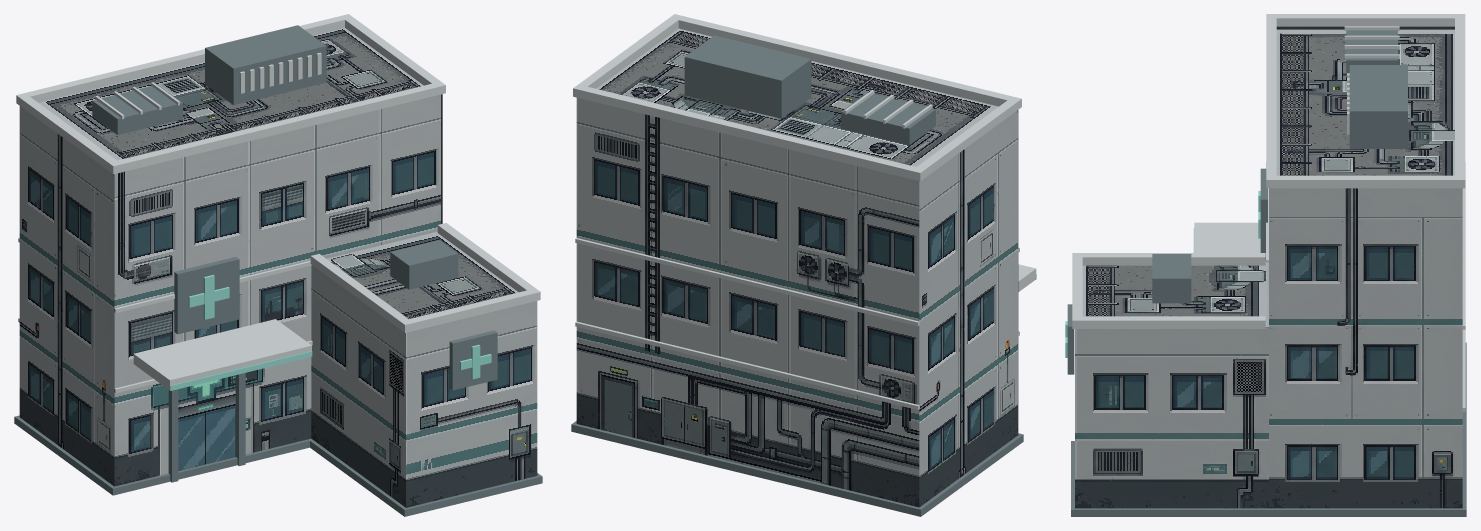
File: city_hospital.glb
3 views of the same model, side by side, from view 1: azimuth 30°, elevation 25°; view 2: azimuth 150°, elevation 25°; view 3: azimuth 270°, elevation 25° (orthographic). The views are drawn at different scales.
Visible parts, largest first — view 1: Main_Entrance, Main_West, Emergency_Front, Emergency_InnerCorner, Main_Roof, Emergency_Roof, EntryCanopy, RoofMechanicalHousing, MainRoofFront, MedicalPlaque, MainRoofBack, Main_Plinto (+13 smaller); view 2: Main_Rear, Main_West, Main_Roof, RoofMechanicalHousing, MainRoofBack, MainRoofFront, Main_Plinto, RoofSkylight, MainBackBelt_1.8, MainBackBelt_3.2, MainRoofLeft, MainRoofRight; view 3: Main_East, Emergency_East, Main_Roof, Emergency_Roof, RoofMechanicalHousing, MainRoofRight, Main_Plinto, WingRoofRight, MainRoofLeft, Wing_Plinto, EntryCanopy, EmergencyRoofService (+8 smaller).
Boxes of the visible parts, x1=… form: Main_Entrance: x1=114, y1=94, x2=442, y2=486; Main_West: x1=19, y1=106, x2=114, y2=485; Emergency_Front: x1=406, y1=301, x2=537, y2=507; Emergency_InnerCorner: x1=311, y1=265, x2=405, y2=507; Main_Roof: x1=38, y1=28, x2=423, y2=160; Emergency_Roof: x1=326, y1=231, x2=518, y2=318; EntryCanopy: x1=133, y1=319, x2=311, y2=390; RoofMechanicalHousing: x1=205, y1=25, x2=326, y2=105; MainRoofFront: x1=108, y1=81, x2=445, y2=174; MedicalPlaque: x1=174, y1=257, x2=239, y2=334; MainRoofBack: x1=16, y1=14, x2=352, y2=106; Main_Plinto: x1=14, y1=415, x2=312, y2=495; Main_Rear: x1=576, y1=97, x2=919, y2=507; Main_West: x1=919, y1=110, x2=1018, y2=507; Main_Roof: x1=596, y1=28, x2=998, y2=166; RoofMechanicalHousing: x1=684, y1=35, x2=811, y2=118; MainRoofBack: x1=573, y1=84, x2=925, y2=181; MainRoofFront: x1=669, y1=14, x2=1021, y2=110; Main_Plinto: x1=571, y1=421, x2=1023, y2=516; RoofSkylight: x1=841, y1=92, x2=935, y2=145; MainBackBelt_1.8: x1=575, y1=321, x2=919, y2=409; MainBackBelt_3.2: x1=575, y1=238, x2=919, y2=326; MainRoofLeft: x1=915, y1=99, x2=1018, y2=178; MainRoofRight: x1=577, y1=18, x2=678, y2=88; Main_East: x1=1269, y1=188, x2=1462, y2=508; Emergency_East: x1=1075, y1=328, x2=1268, y2=508; Main_Roof: x1=1276, y1=26, x2=1454, y2=175; Emergency_Roof: x1=1082, y1=262, x2=1268, y2=327; RoofMechanicalHousing: x1=1349, y1=65, x2=1407, y2=148; MainRoofRight: x1=1272, y1=175, x2=1459, y2=188; Main_Plinto: x1=1265, y1=342, x2=1466, y2=516; WingRoofRight: x1=1078, y1=316, x2=1265, y2=328; MainRoofLeft: x1=1272, y1=14, x2=1459, y2=26; Wing_Plinto: x1=1071, y1=441, x2=1272, y2=516; EntryCanopy: x1=1194, y1=222, x2=1265, y2=261; EmergencyRoofService: x1=1152, y1=254, x2=1191, y2=303.
Bounding box in the file's own units: 6.12 × 6.24 × 6.21.
Materials: 5 (2 with a texture image).
